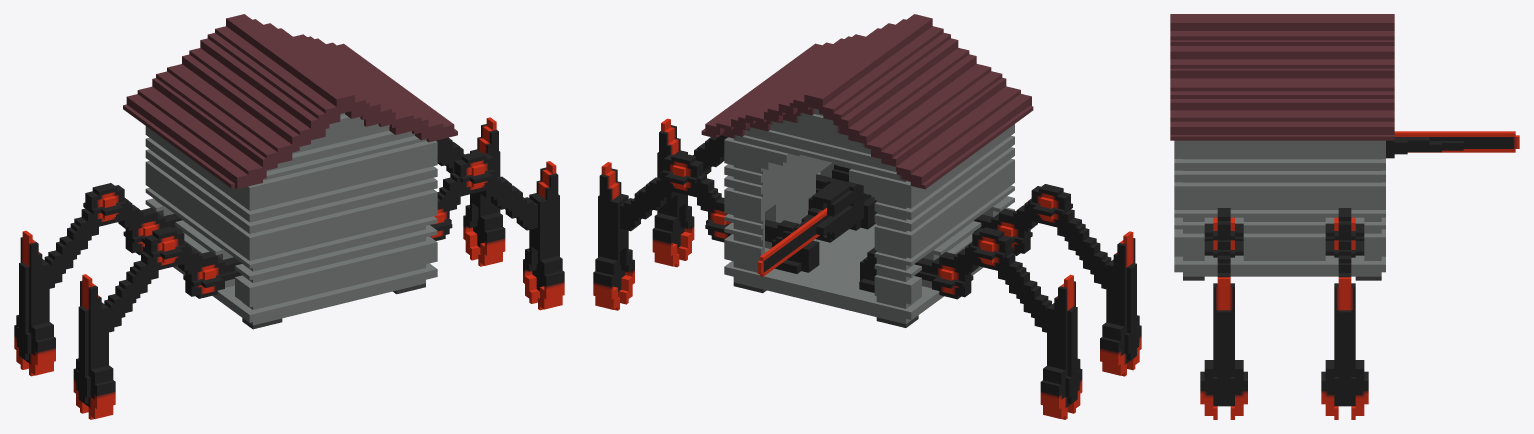
Rendered from DogHard.fbx.
The picture shows the model from 3 angles, left to right: view 1: azimuth 30°, elevation 25°; view 2: azimuth 150°, elevation 25°; view 3: azimuth 270°, elevation 25°; orthographic projection.
Parts seen in each view (by area): view 1: DogHard; view 2: DogHard; view 3: DogHard.
Boxes of the visible parts, box(x1,y1,x2,y2) form: DogHard: box(14, 14, 564, 419); DogHard: box(593, 14, 1141, 419); DogHard: box(1170, 14, 1519, 419).
Size of the model in its own units: 129 by 73 by 81.
